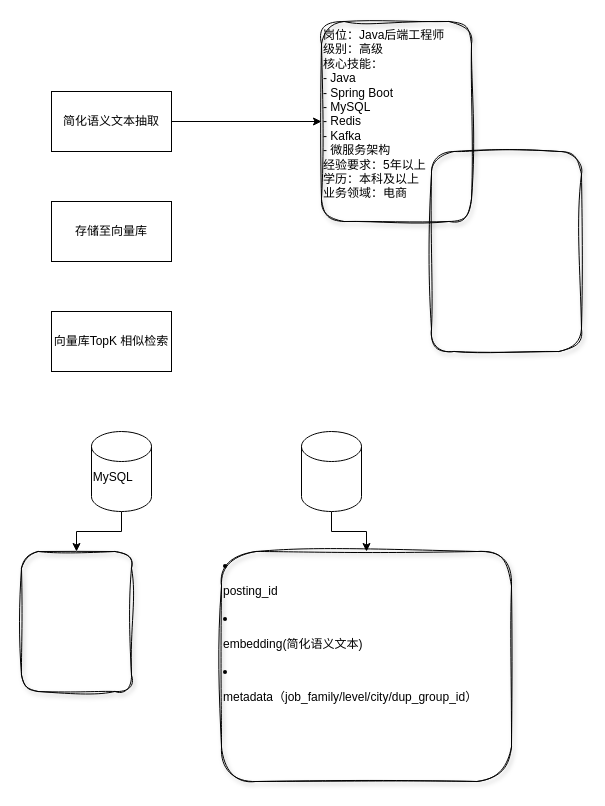
Some shapes in this 605 by 806 pixel diagram are drawn without their labels. The centre of each missing label's shape, as x and y in pixels:
"Vector DB" goes at point 331,471.
"不能直接存结构化 JSON embedding 更擅长处理自然语言上下文，而不是纯标签列表。" goes at point 507,252.
"全量原始字段 抽取字段 dup_group_id sample_weight" goes at point 77,622.
